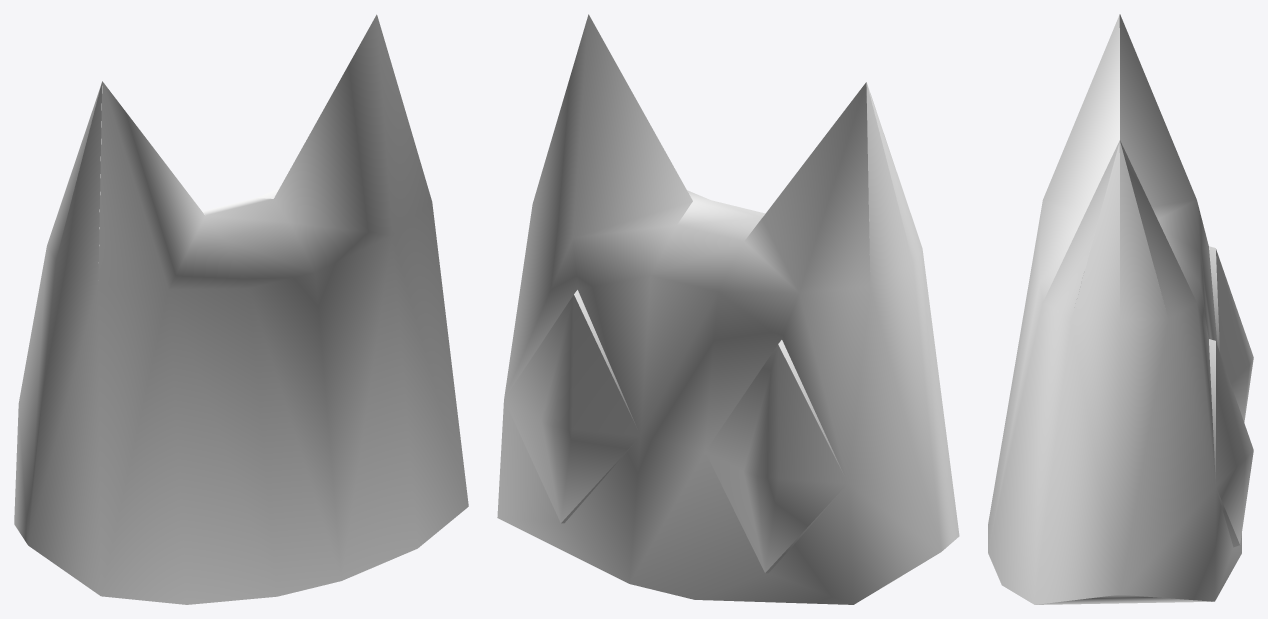
File: dc.ico.obj
3 renders of one model, left to right at view 1: azimuth 30°, elevation 25°; view 2: azimuth 150°, elevation 25°; view 3: azimuth 270°, elevation 25°, orthographic. The views are drawn at different scales.
Bounding box in the file's own units: 2.65 × 2.93 × 1.53.
1 material, 1 textured.
